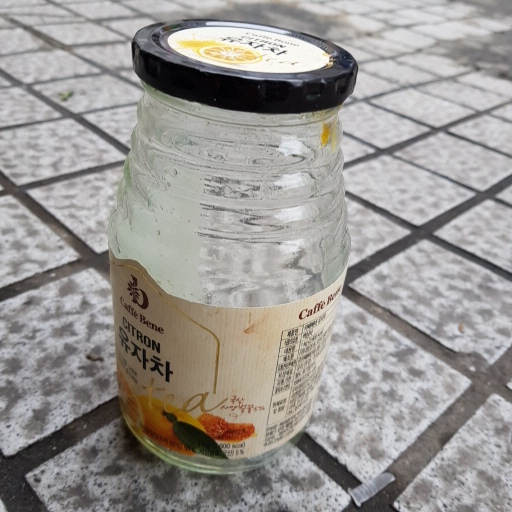Glass_5: (107, 16, 362, 470)
